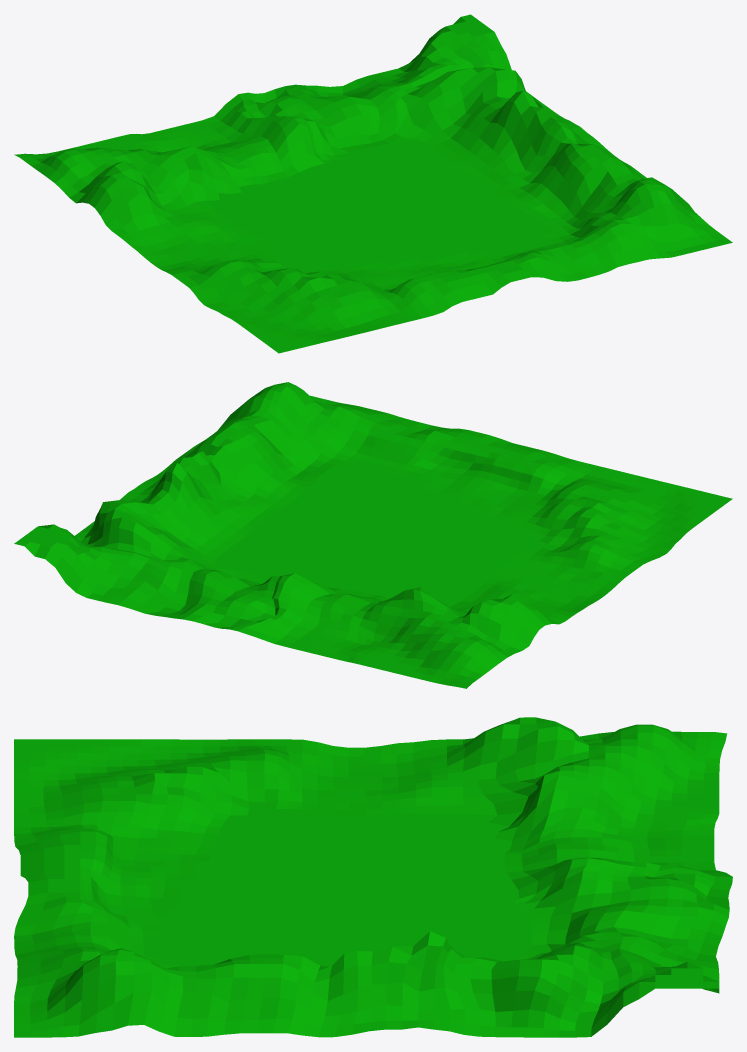
Rendered from Terrain.glb.
3 renders of one model, top to bottom at view 1: azimuth 30°, elevation 25°; view 2: azimuth 150°, elevation 25°; view 3: azimuth 270°, elevation 25°, orthographic. The views are drawn at different scales.
Parts seen in each view (by area): view 1: Ground; view 2: Ground; view 3: Ground.
Boxes of the visible parts, left/top/right/bottom form: Ground: left=14, top=14, right=732, bottom=353; Ground: left=14, top=382, right=732, bottom=688; Ground: left=14, top=717, right=732, bottom=1037.
Size of the model in its own units: 80.79 by 10.02 by 81.55.
